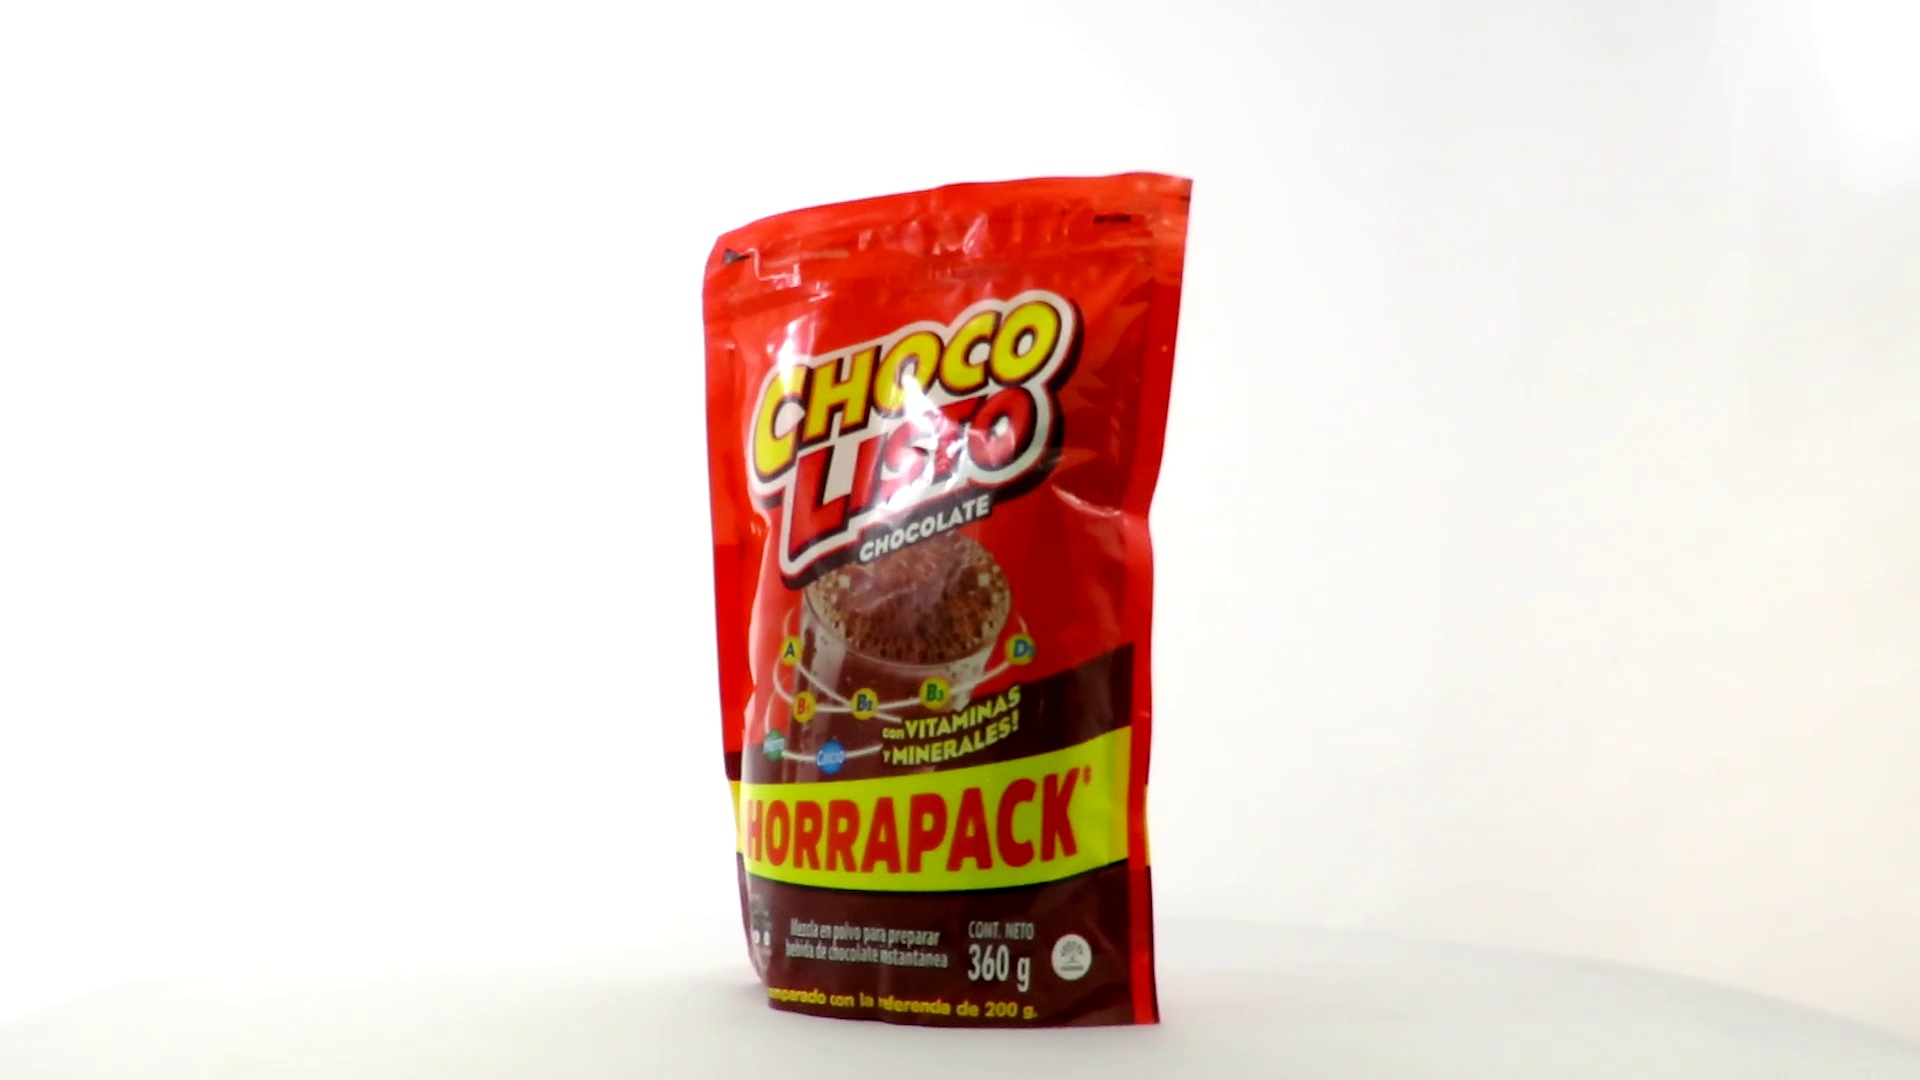COL0170103DYP36000: (696, 167, 1199, 1035)
